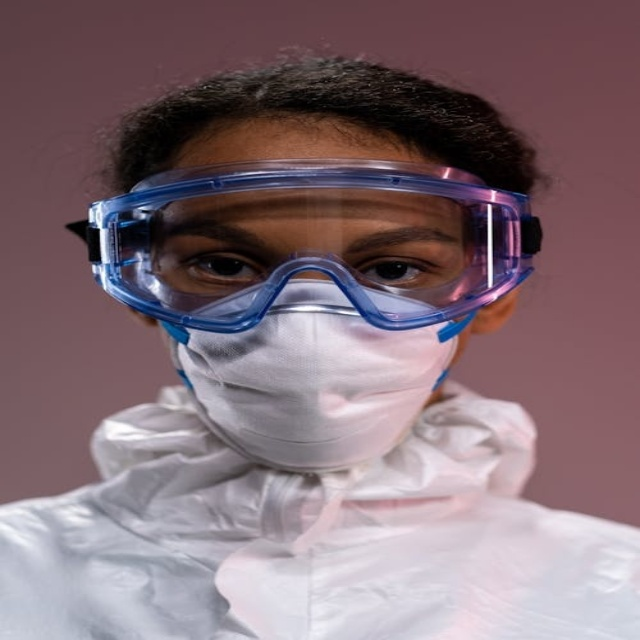Gafas: (71, 160, 545, 333)
Mascara: (162, 285, 471, 476)
